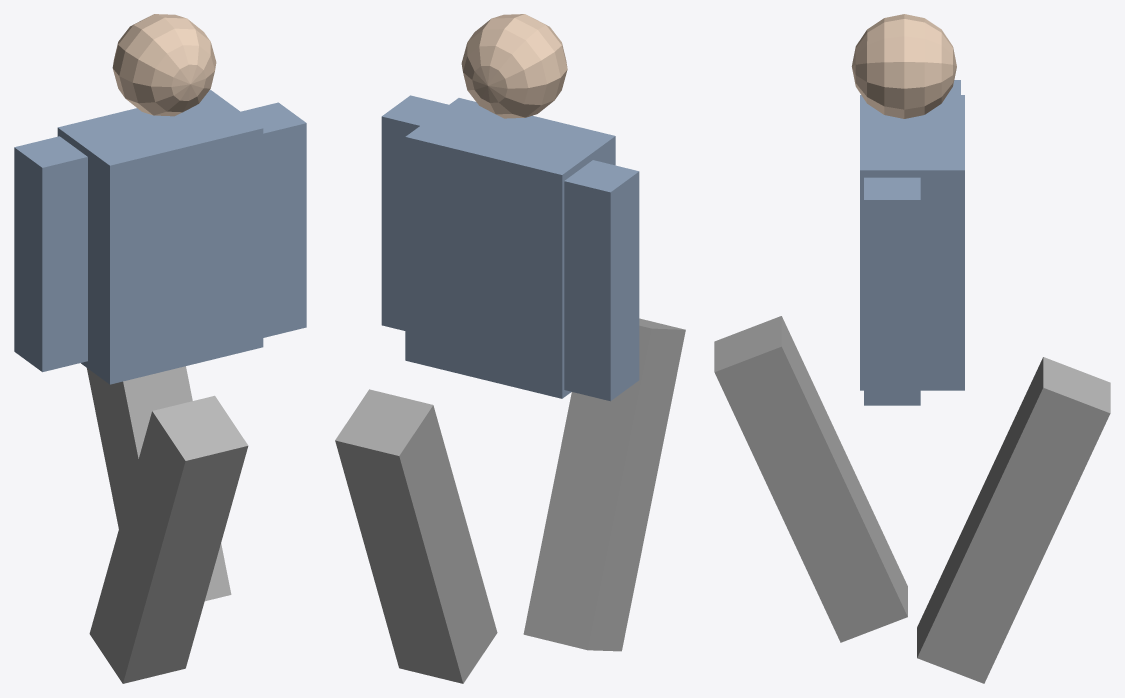
File: deep_snow_walk.glb
3 renders of one model, left to right at view 1: azimuth 30°, elevation 25°; view 2: azimuth 150°, elevation 25°; view 3: azimuth 270°, elevation 25°, orthographic. The views are drawn at different scales.
Visible parts, largest first — view 1: torso, leg_l, arm_l, arm_r, head, leg_r; view 2: torso, leg_r, leg_l, arm_l, head, arm_r; view 3: leg_l, leg_r, torso, arm_r, head.
Boxes of the visible parts, x1=… form: torso: x1=57, y1=90, x2=263, y2=384; leg_l: x1=89, y1=395, x2=248, y2=683; arm_l: x1=14, y1=136, x2=87, y2=372; arm_r: x1=241, y1=102, x2=306, y2=337; head: x1=112, y1=14, x2=216, y2=116; leg_r: x1=87, y1=366, x2=231, y2=601; torso: x1=405, y1=98, x2=615, y2=398; leg_r: x1=335, y1=389, x2=497, y2=683; leg_l: x1=523, y1=318, x2=685, y2=651; arm_l: x1=564, y1=160, x2=639, y2=401; head: x1=461, y1=14, x2=567, y2=118; arm_r: x1=381, y1=95, x2=448, y2=330; leg_l: x1=714, y1=316, x2=907, y2=642; leg_r: x1=917, y1=357, x2=1110, y2=683; torso: x1=860, y1=95, x2=964, y2=390; arm_r: x1=864, y1=177, x2=920, y2=405; head: x1=851, y1=14, x2=956, y2=118.
Bounding box in the file's own units: 0.7001 × 1.71 × 0.9774.
